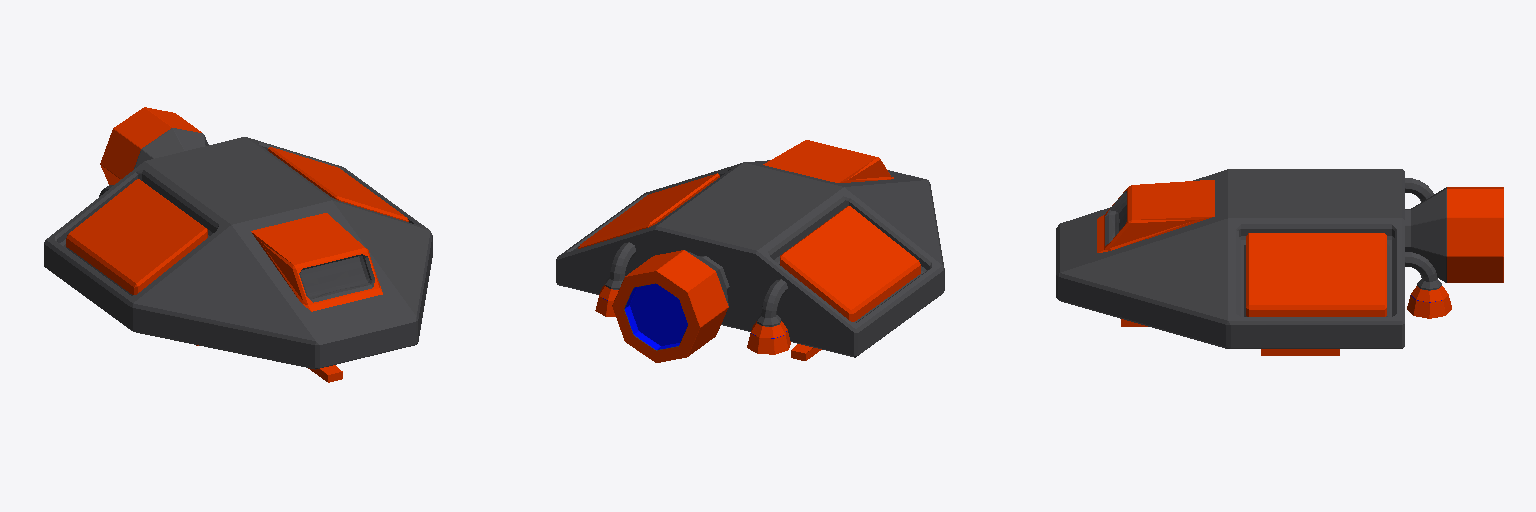
The picture shows the model from 3 angles: view 1: azimuth 30°, elevation 25°; view 2: azimuth 150°, elevation 25°; view 3: azimuth 270°, elevation 25°; orthographic projection.
Visible parts, largest first — view 1: SpaceShip_Plane.001; view 2: SpaceShip_Plane.001; view 3: SpaceShip_Plane.001.
Part boxes in pixels (bbox=[...]): SpaceShip_Plane.001: bbox=[44, 107, 432, 382]; SpaceShip_Plane.001: bbox=[556, 140, 944, 362]; SpaceShip_Plane.001: bbox=[1056, 169, 1503, 355].
Bounding box in the file's own units: 1 × 0.4243 × 1.28.
Materials: 4 (4 with a texture image).